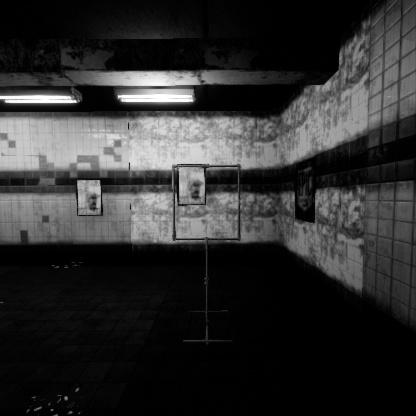gate: (172, 174, 247, 252)
